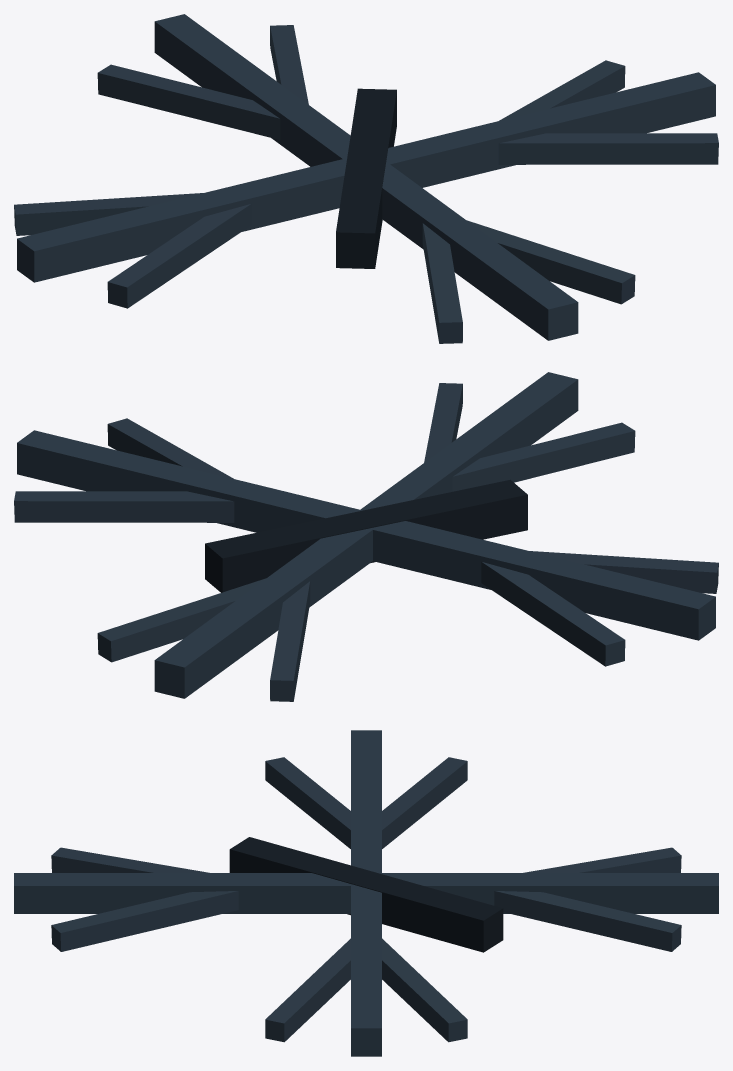
The model's file is CMU3DHiveXenoHardyWeeds.glb.
3 renders of one model, top to bottom at view 1: azimuth 30°, elevation 25°; view 2: azimuth 150°, elevation 25°; view 3: azimuth 270°, elevation 25°, orthographic. The views are drawn at different scales.
Parts seen in each view (by area): view 1: tile-joining root (×4), branching ground filament (×8), central ground rhizome; view 2: tile-joining root (×4), branching ground filament (×8), central ground rhizome; view 3: tile-joining root (×4), branching ground filament (×8), central ground rhizome.
Boxes of the visible parts, x1,y1,x2,y2 form: tile-joining root (×4): [17, 14, 715, 340]; branching ground filament (×8): [14, 25, 718, 343]; central ground rhizome: [336, 88, 396, 268]; tile-joining root (×4): [17, 372, 715, 698]; branching ground filament (×8): [14, 383, 718, 701]; central ground rhizome: [205, 479, 527, 592]; tile-joining root (×4): [14, 730, 718, 1056]; branching ground filament (×8): [51, 757, 681, 1042]; central ground rhizome: [229, 837, 503, 952].
Size of the model in its own units: 1 by 0.05 by 1.
